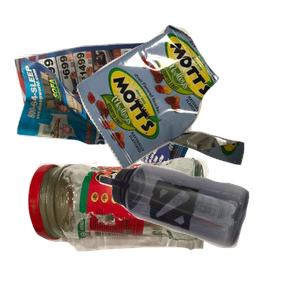glass: (25, 155, 227, 300)
paper: (12, 31, 196, 204)
plastic: (97, 162, 300, 300)
trash: (74, 22, 300, 185)
